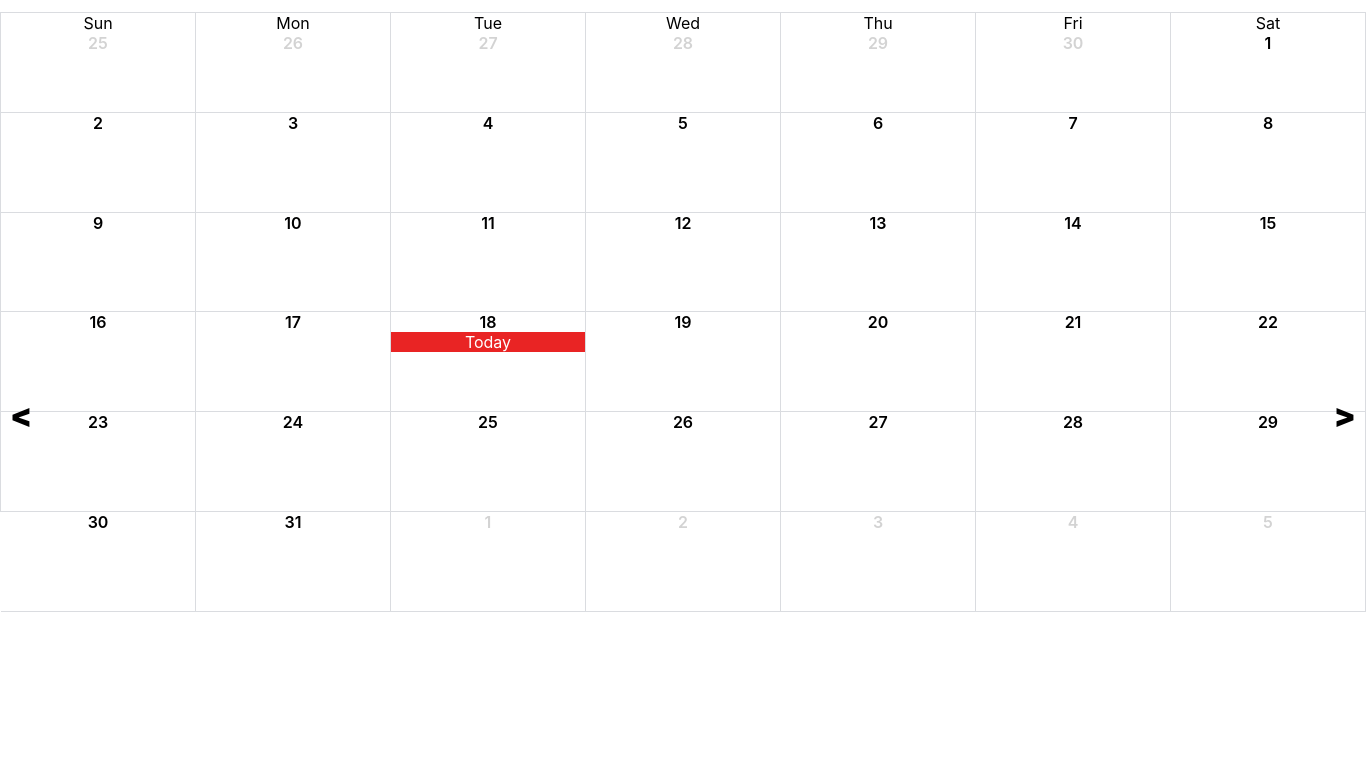
Scenario: <Calendar/> › it should navigate Month Correctly on BUTTON CLICKS
Click the text with test id "forward" at (1345,416), box top-left (1334, 396), bottom-right (1356, 435)
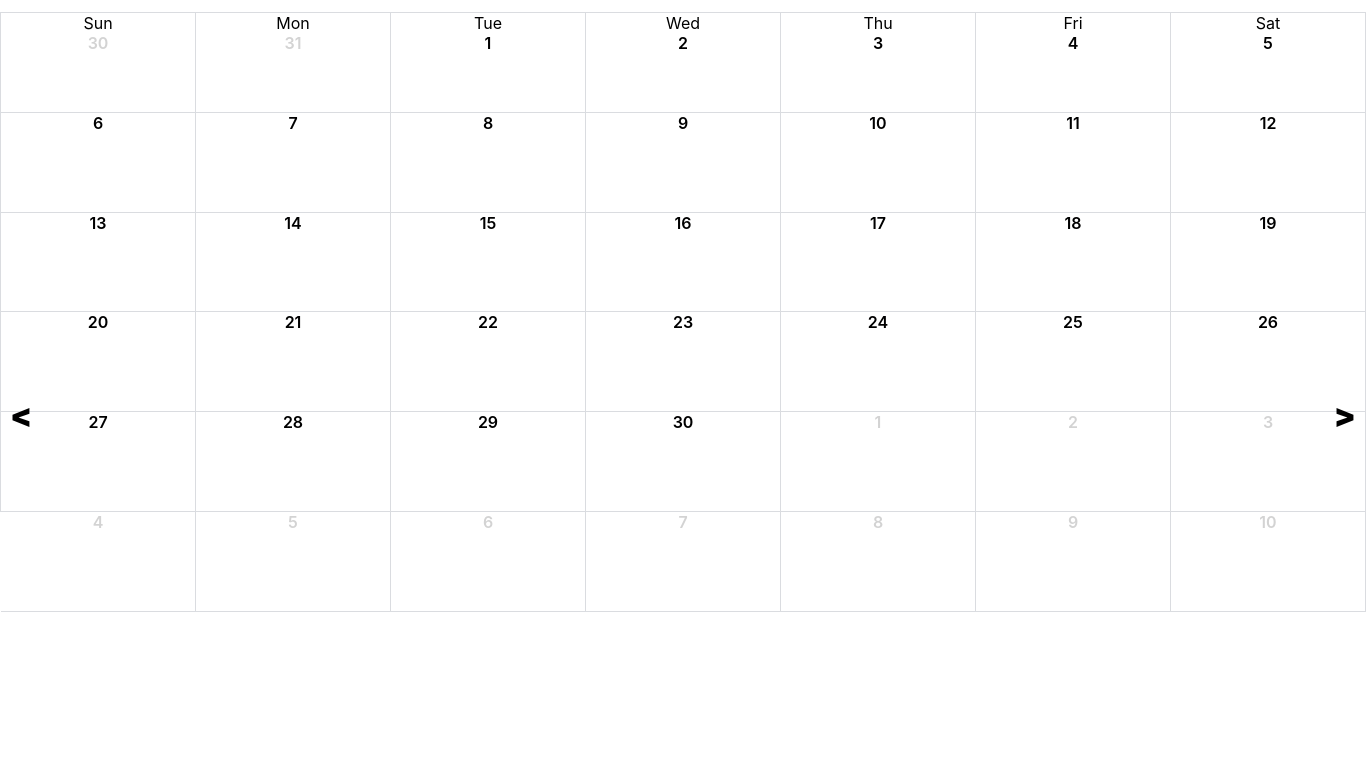
Click the text with test id "forward" at (1345,416), box top-left (1334, 396), bottom-right (1356, 435)
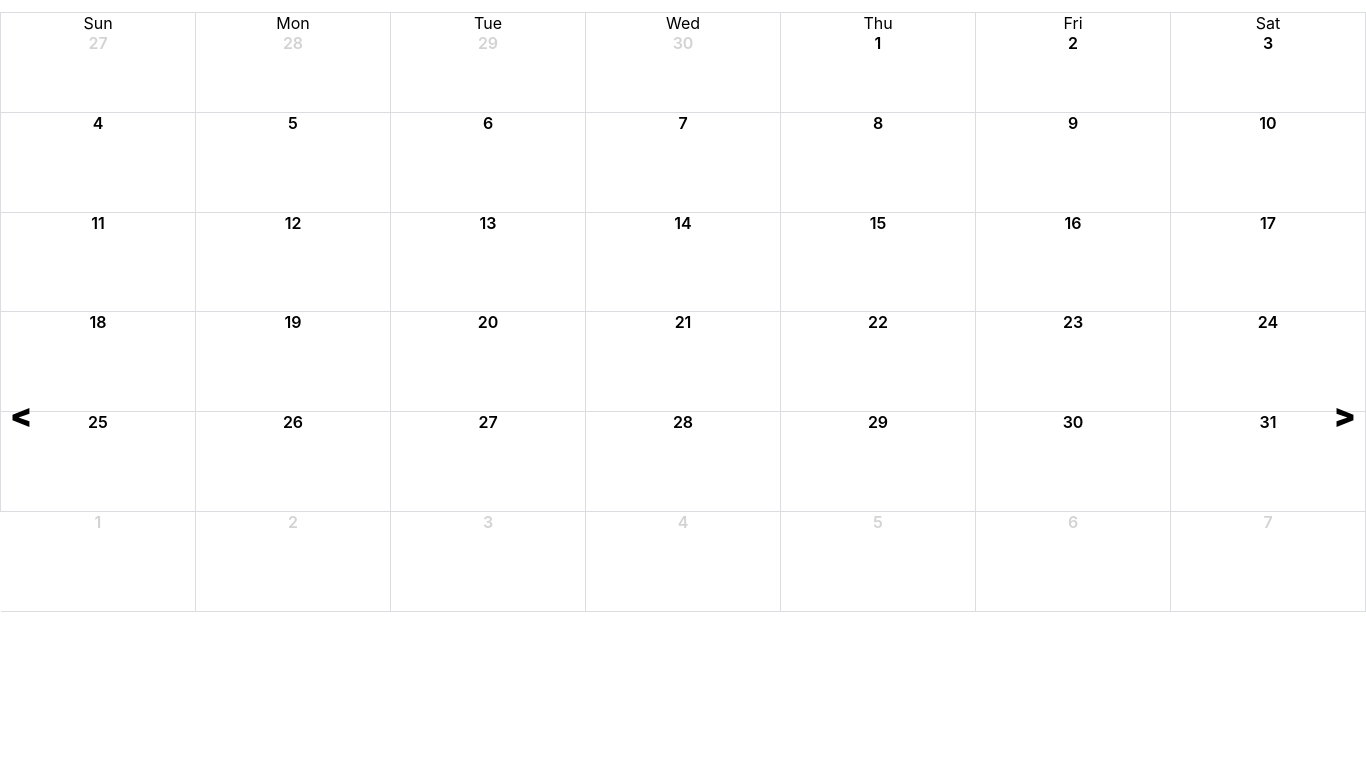
Now the text with test id "date" below "Sun" reads "27", box top-left (88, 33), bottom-right (108, 53)
Now the 2nd text with test id "date" reads "7", box top-left (1263, 512), bottom-right (1273, 532)
Click the text with test id "backward" at (21,416), box top-left (10, 396), bottom-right (32, 435)
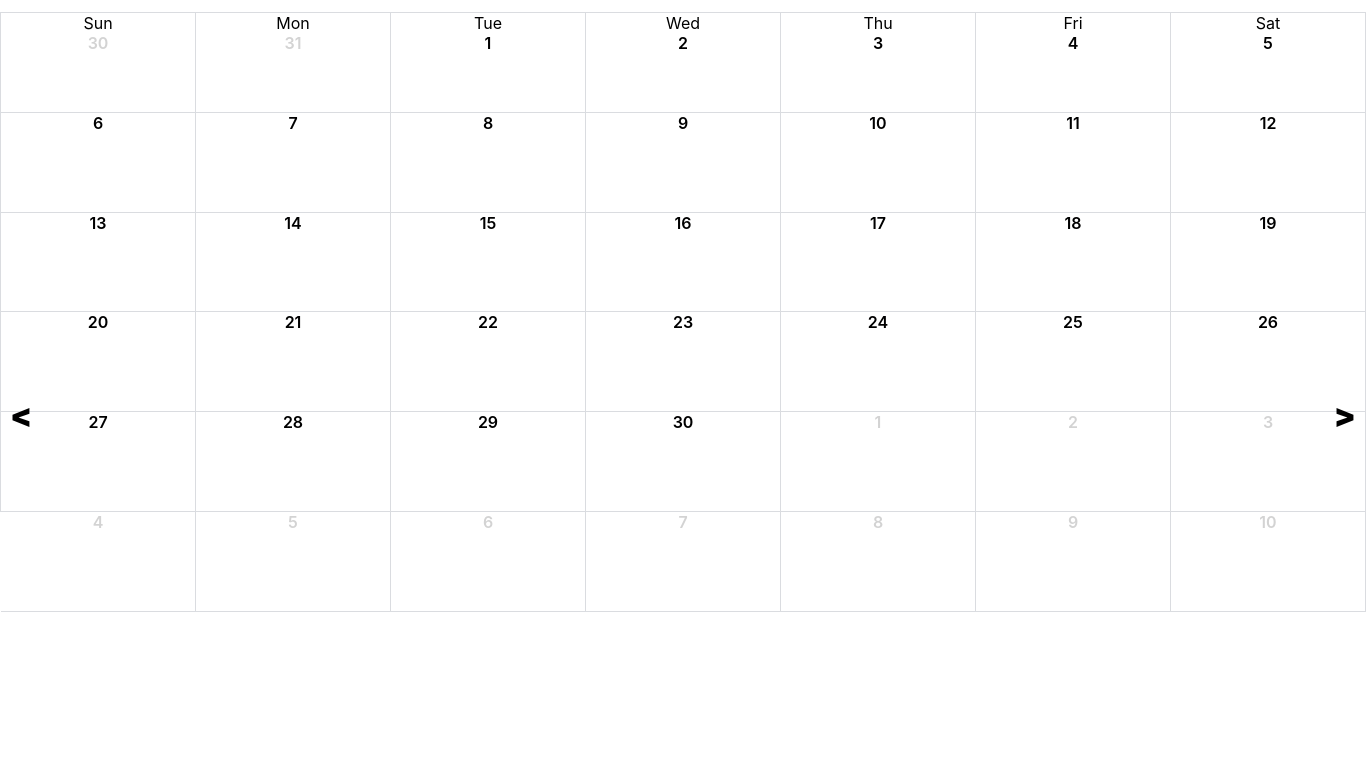
Now the text with test id "date" below "Sun" reads "30", box top-left (88, 33), bottom-right (108, 53)
Now the 2nd text with test id "date" reads "10", box top-left (1259, 512), bottom-right (1277, 532)
